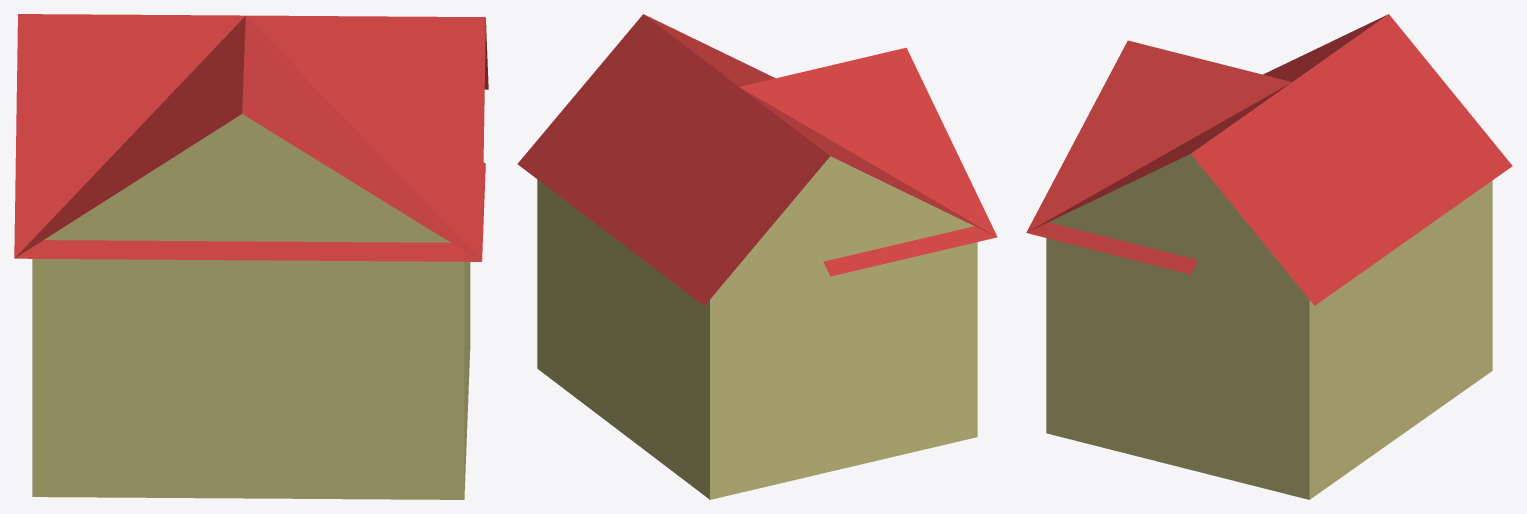
3 views of the same model, side by side, from view 1: azimuth 30°, elevation 25°; view 2: azimuth 150°, elevation 25°; view 3: azimuth 270°, elevation 25° (orthographic). The views are drawn at different scales.
Size of the model in its own units: 17.02 by 16.44 by 12.05.
